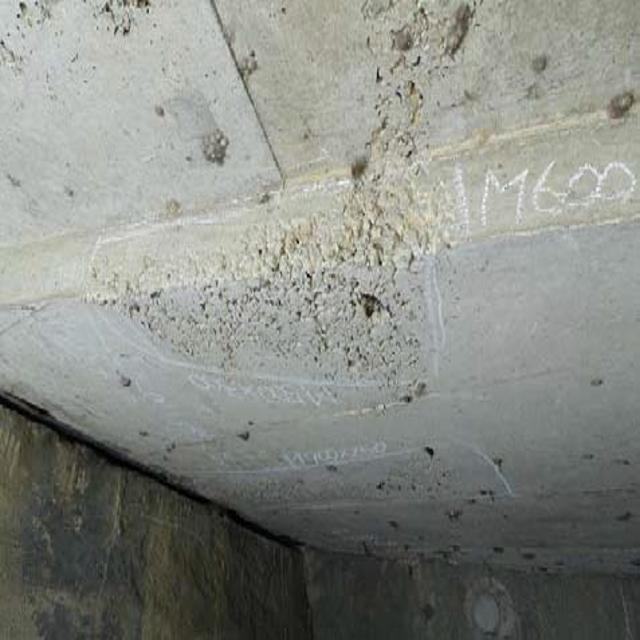spalling: (104, 169, 470, 404)
